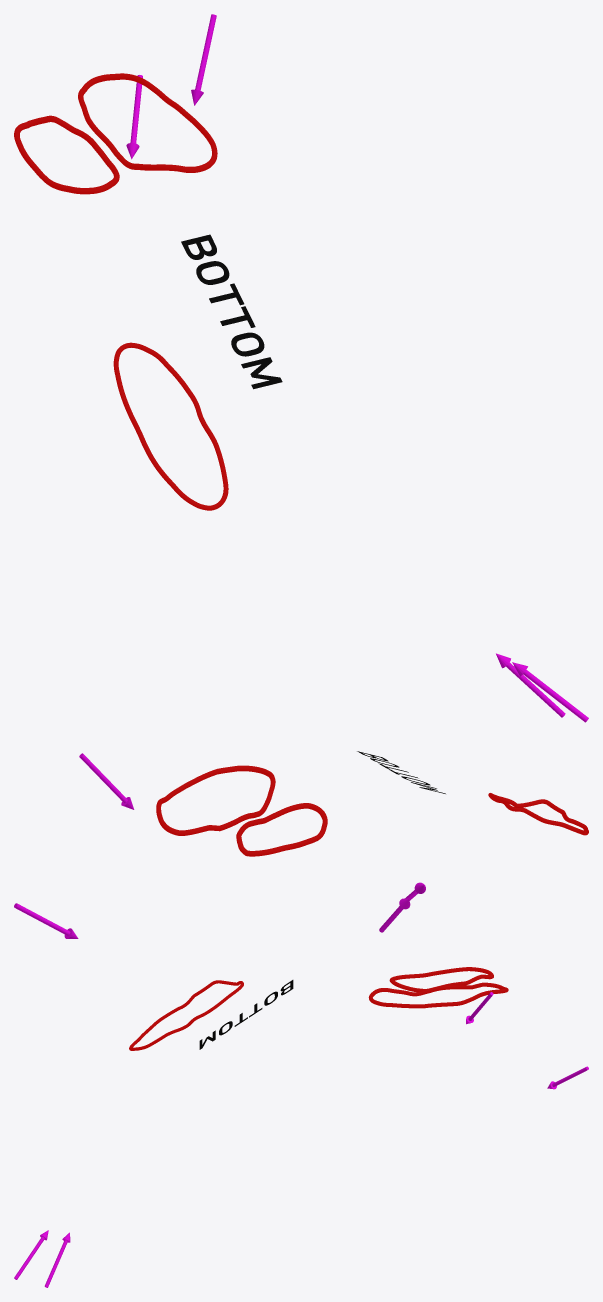
File: Arrows.glb
3 renders of one model, top to bottom at view 1: azimuth 30°, elevation 25°; view 2: azimuth 150°, elevation 25°; view 3: azimuth 270°, elevation 25°, orthographic. The views are drawn at different scales.
Parts seen in each view (by area): view 1: Text, BézierCircle.002, BézierCircle.007, BézierCircle.006; view 2: BézierCircle.007, BézierCircle.006, BézierCircle.002, Arrow.001, Arrow.002, Text, Arrow.004; view 3: BézierCircle.007, BézierCircle.002, BézierCircle.006, Text.
Part boxes in pixels (box(x1,y1,x2,y2)): Text: box(181, 234, 282, 389); BézierCircle.002: box(113, 342, 228, 510); BézierCircle.007: box(78, 73, 217, 172); BézierCircle.006: box(14, 115, 119, 194); BézierCircle.007: box(156, 765, 275, 835); BézierCircle.006: box(236, 803, 327, 856); BézierCircle.002: box(488, 793, 588, 835); Arrow.001: box(79, 753, 134, 809); Arrow.002: box(14, 903, 78, 938); Text: box(357, 751, 445, 793); Arrow.004: box(379, 898, 410, 932); BézierCircle.007: box(368, 982, 508, 1008); BézierCircle.002: box(129, 980, 243, 1050); BézierCircle.006: box(389, 967, 493, 992); Text: box(199, 980, 293, 1049).
Size of the model in its own units: 0.0516 by 0.0694 by 0.123.
